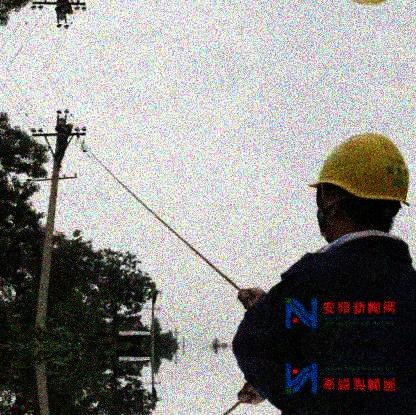helmet: (308, 132, 416, 244)
